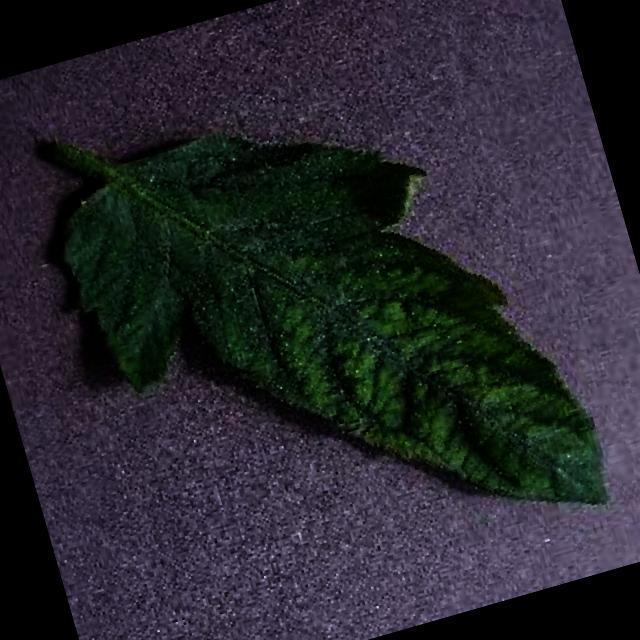Tomato mosaic virus leaf: (29, 50, 619, 635)
